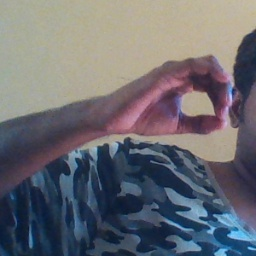O: (107, 49, 234, 142)
